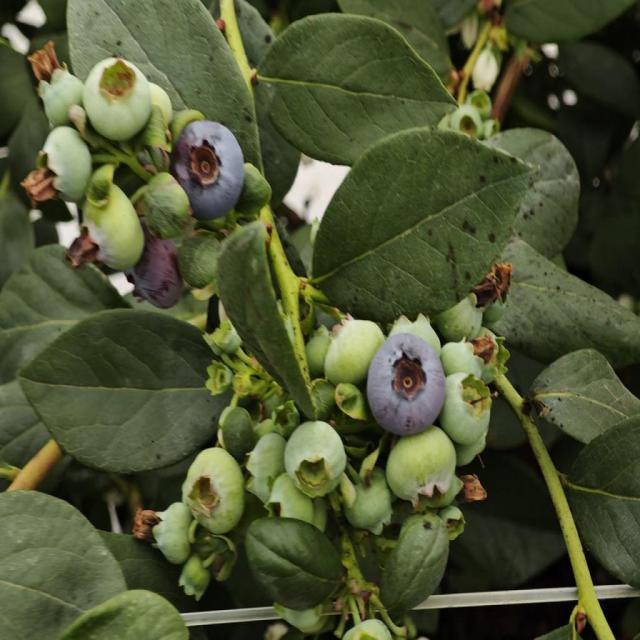RipeBlueBerry: (367, 330, 447, 434), (176, 118, 246, 218)
Semi-RipeBlueBerry: (129, 236, 187, 310)
UnripeBlueBerry: (82, 54, 154, 146), (79, 182, 148, 274), (180, 445, 248, 536), (384, 425, 458, 506), (284, 421, 347, 496), (324, 316, 384, 385), (42, 127, 92, 204), (442, 371, 492, 446), (346, 474, 393, 534), (35, 66, 83, 122), (151, 501, 192, 563)
